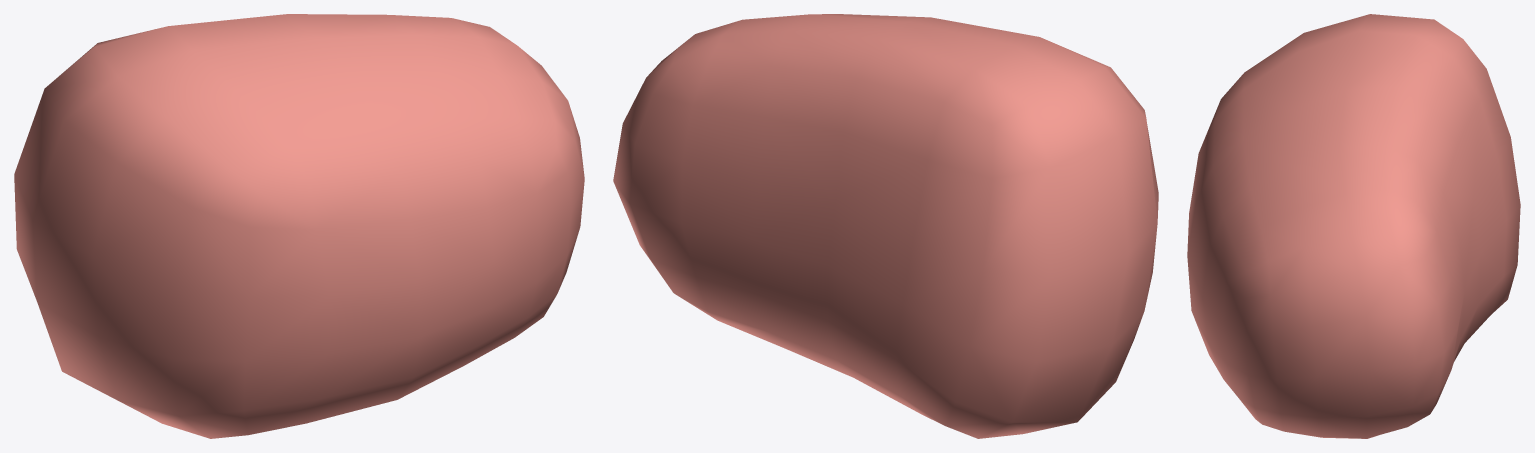
Rendered from mixamo_humanoid_surface_leftHandMiddle3.fbx.
3 views of the same model, side by side, from view 1: azimuth 30°, elevation 25°; view 2: azimuth 150°, elevation 25°; view 3: azimuth 270°, elevation 25° (orthographic). The views are drawn at different scales.
Parts seen in each view (by area): view 1: surface_LeftHandMiddle3; view 2: surface_LeftHandMiddle3; view 3: surface_LeftHandMiddle3.
Part boxes in pixels (<box>): surface_LeftHandMiddle3: <box>14,14,584,438</box>; surface_LeftHandMiddle3: <box>613,14,1158,438</box>; surface_LeftHandMiddle3: <box>1187,14,1520,438</box>.
Bounding box in the file's own units: 2.67 × 1.79 × 1.71.
